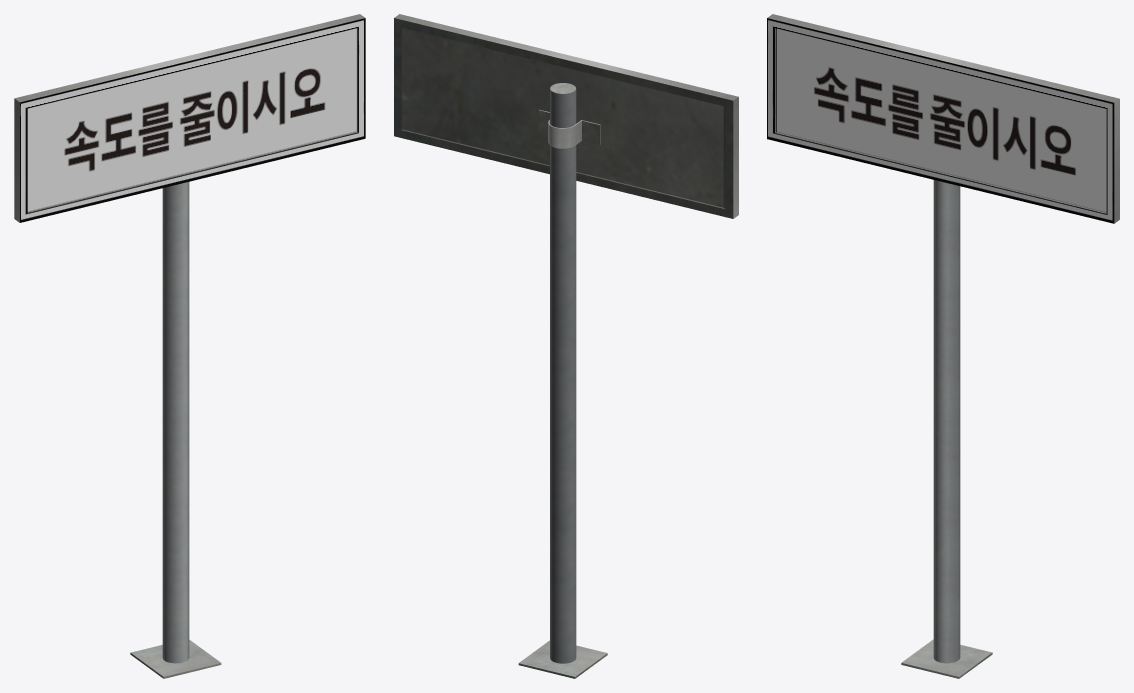
3 views of the same model, side by side, from view 1: azimuth 30°, elevation 25°; view 2: azimuth 150°, elevation 25°; view 3: azimuth 330°, elevation 25° (orthographic). The views are drawn at different scales.
Parts seen in each view (by area): view 1: MainBuilding; view 2: MainBuilding; view 3: MainBuilding.
Part boxes in pixels (x1,y1,x2,y2): MainBuilding: (14, 14, 365, 678); MainBuilding: (394, 14, 738, 678); MainBuilding: (767, 14, 1119, 678).
Bounding box in the file's own units: 0.9 × 1.51 × 0.15.
Materials: 1 (1 with a texture image).
